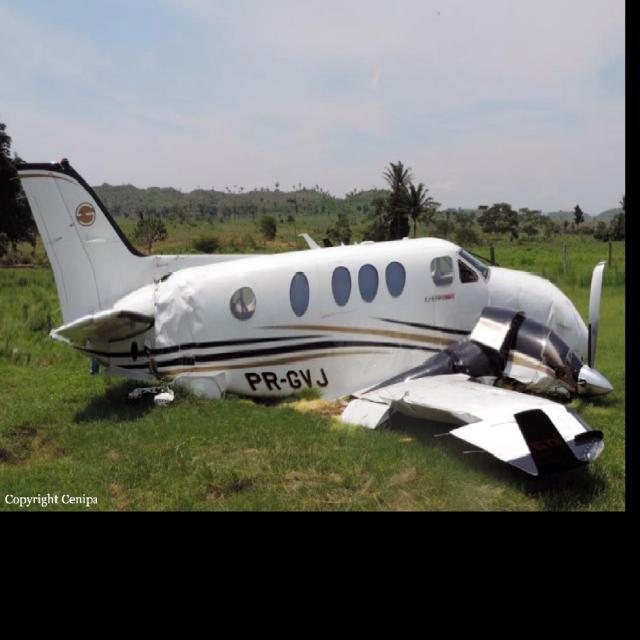dent: (155, 283, 208, 358)
